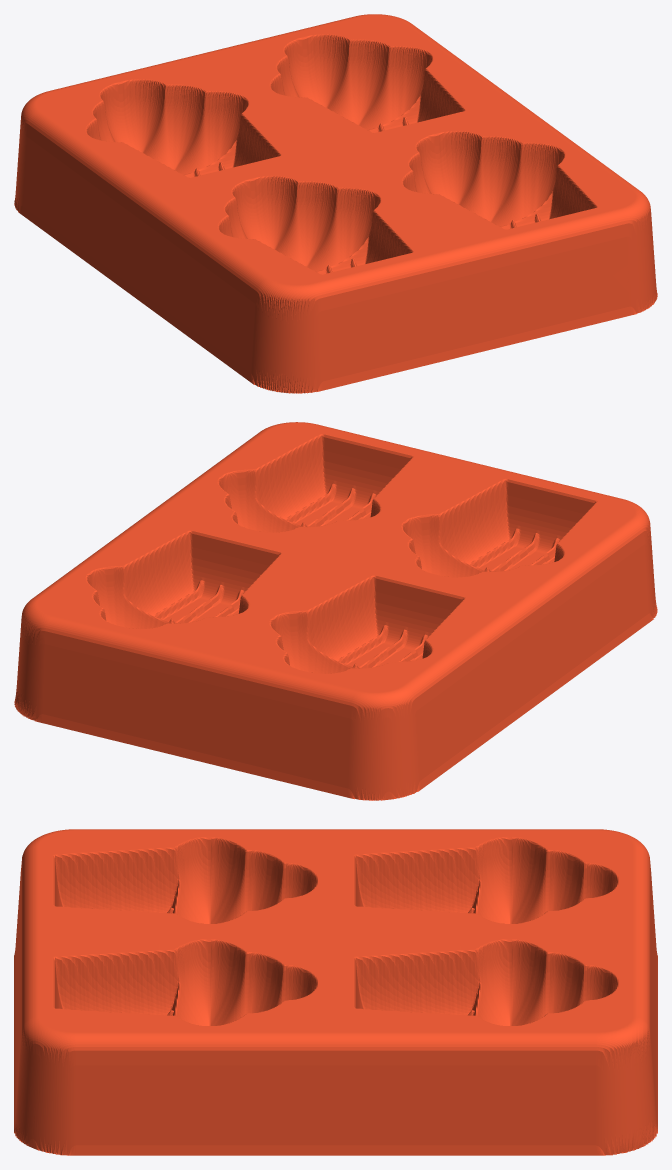
File: mold.glb
3 views of the same model, one above another, from view 1: azimuth 30°, elevation 25°; view 2: azimuth 150°, elevation 25°; view 3: azimuth 270°, elevation 25° (orthographic). The views are drawn at different scales.
Parts seen in each view (by area): view 1: geometry_0; view 2: geometry_0; view 3: geometry_0.
Boxes of the visible parts, x1,y1,x2,y2 form: geometry_0: (14, 14, 657, 393); geometry_0: (14, 422, 657, 800); geometry_0: (14, 829, 657, 1155).
Size of the model in its own units: 0.077 by 0.0182 by 0.0942.
